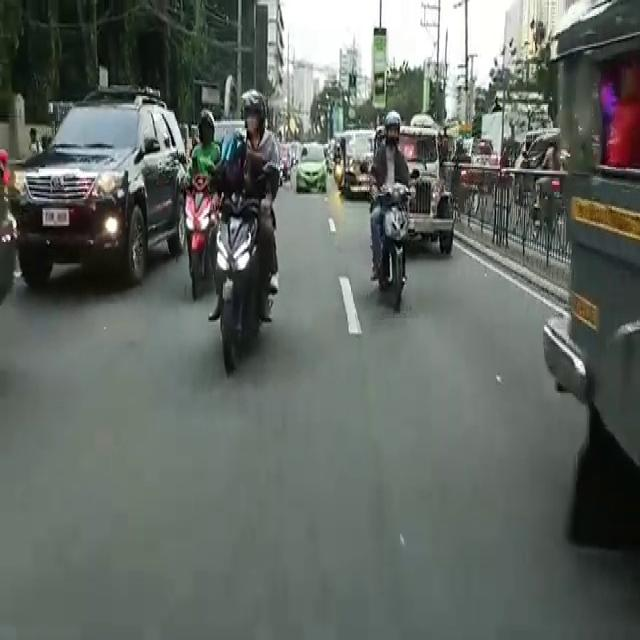car: (30, 91, 162, 282), (298, 140, 329, 190)
jeepney: (556, 18, 640, 534), (401, 125, 457, 273), (336, 132, 368, 198)
motorcycle: (224, 95, 284, 364), (180, 111, 214, 296), (372, 111, 402, 311)
